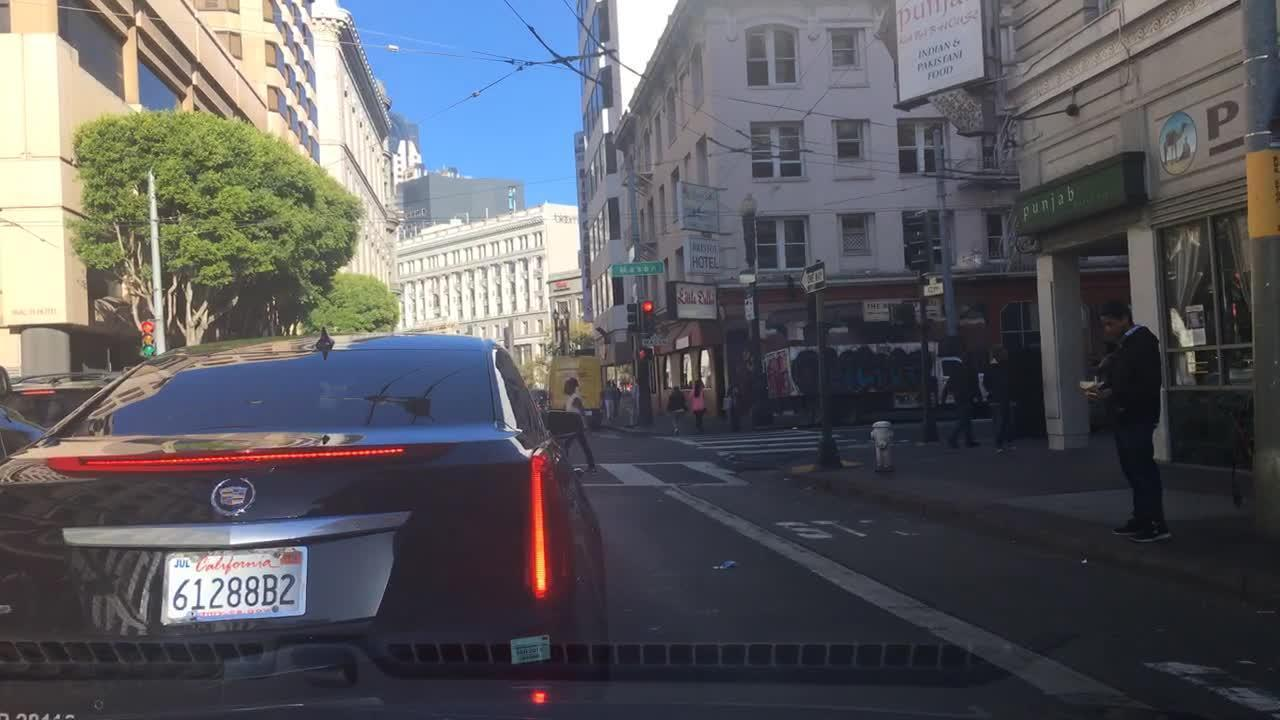cadillac: (199, 464, 265, 520)
